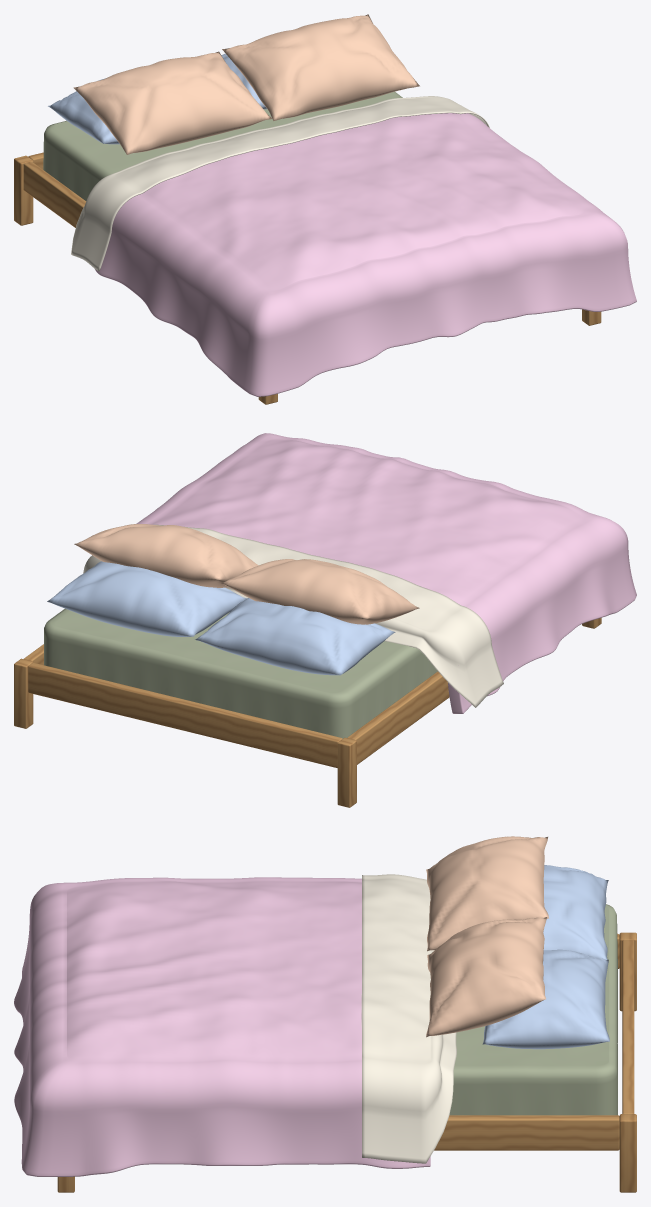
The model's file is bed.glb.
3 renders of one model, top to bottom at view 1: azimuth 30°, elevation 25°; view 2: azimuth 150°, elevation 25°; view 3: azimuth 270°, elevation 25°, orthographic. The views are drawn at different scales.
Visible parts, largest first — view 1: duvet_cover, pillows_front, flat_sheet, fitted_sheet, base, pillows_back; view 2: duvet_cover, fitted_sheet, pillows_back, base, pillows_front, flat_sheet; view 3: duvet_cover, flat_sheet, pillows_front, fitted_sheet, pillows_back, base.
Boxes of the visible parts, x1,y1,x2,y2 form: duvet_cover: [95, 113, 636, 396]; pillows_front: [73, 14, 419, 154]; flat_sheet: [71, 96, 489, 271]; fitted_sheet: [43, 91, 402, 200]; base: [14, 152, 601, 404]; pillows_back: [48, 53, 267, 144]; duvet_cover: [136, 433, 636, 713]; fitted_sheet: [44, 608, 437, 738]; pillows_back: [47, 561, 395, 675]; base: [14, 618, 601, 807]; pillows_front: [74, 524, 419, 624]; flat_sheet: [83, 524, 503, 707]; duvet_cover: [14, 877, 430, 1176]; flat_sheet: [361, 874, 456, 1163]; pillows_front: [426, 836, 548, 1037]; fitted_sheet: [449, 904, 617, 1115]; pillows_back: [482, 865, 609, 1049]; base: [57, 932, 636, 1192].
Bounding box in the file's own units: 2.02 × 0.8416 × 2.34.
6 materials, 1 textured.
